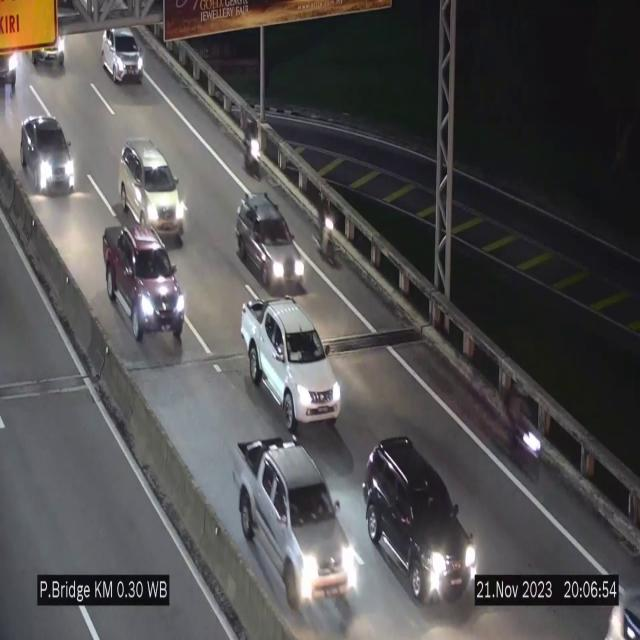Car: (234, 434, 353, 616), (363, 441, 477, 615), (241, 299, 341, 433), (100, 225, 185, 353), (234, 188, 312, 294), (120, 141, 186, 242), (20, 115, 76, 194), (102, 28, 144, 83)
Motorcycle: (508, 372, 540, 483), (312, 186, 340, 274), (238, 112, 268, 188)
